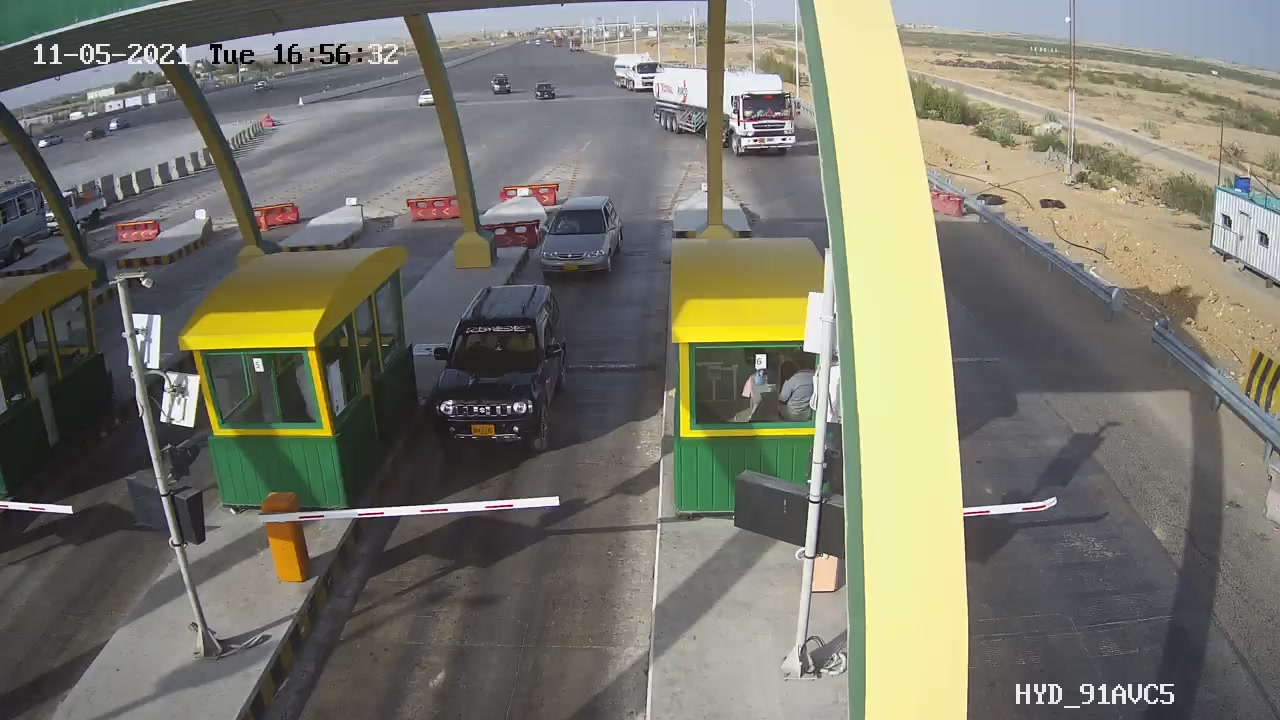F1: (406, 272, 596, 476), (524, 181, 635, 294)
